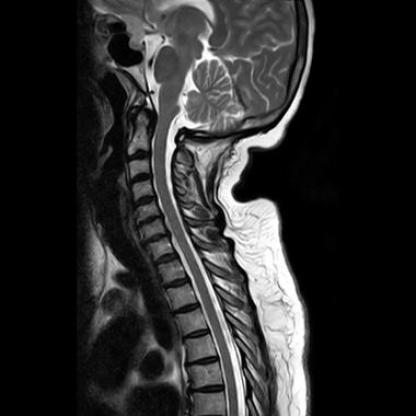Disc Bulgerotation: (140, 231, 171, 245), (135, 215, 164, 226)
Osteophytesrotation: (139, 231, 171, 245), (136, 215, 165, 226)
